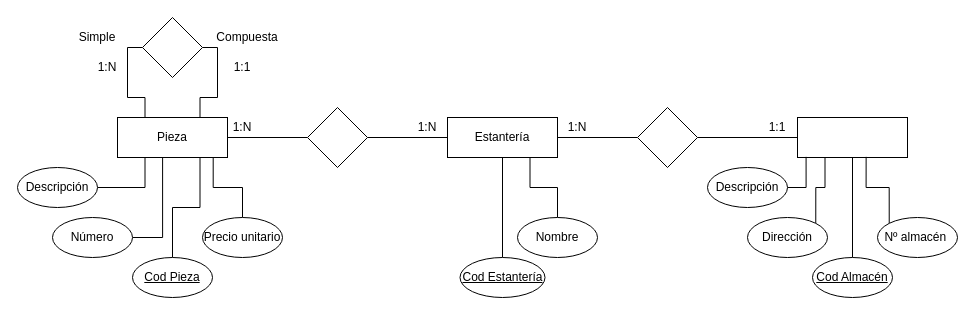
The diagram is 975 pixels wide and 315 high, and some of its shapes have lost their labels. The centre of each missing label's shape, as x and y in pixels:
"Almacenada" belongs at [667,137].
"Almacén" belongs at [852,137].
"Formada" belongs at [172,47].
"Guardada" belongs at [337,137].
